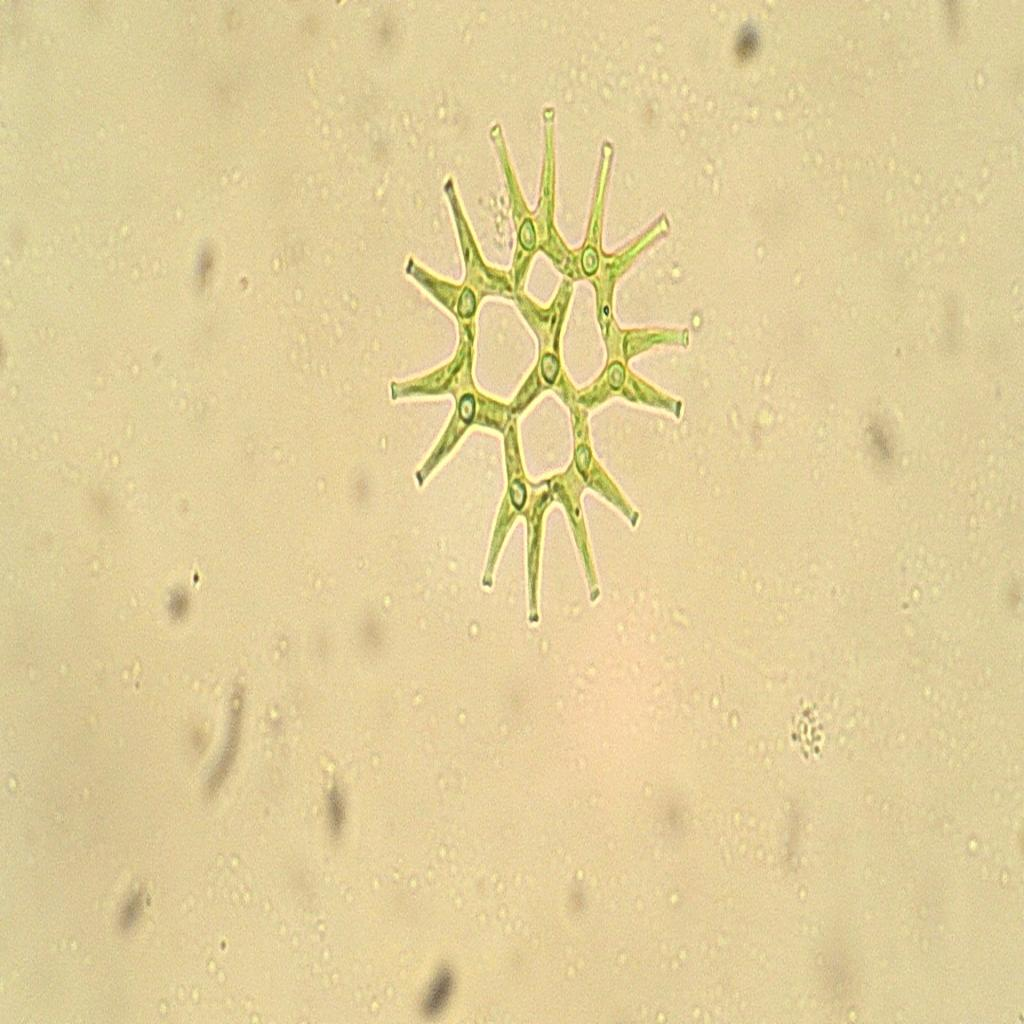Pediastrum_CTH: (388, 90, 702, 630)
